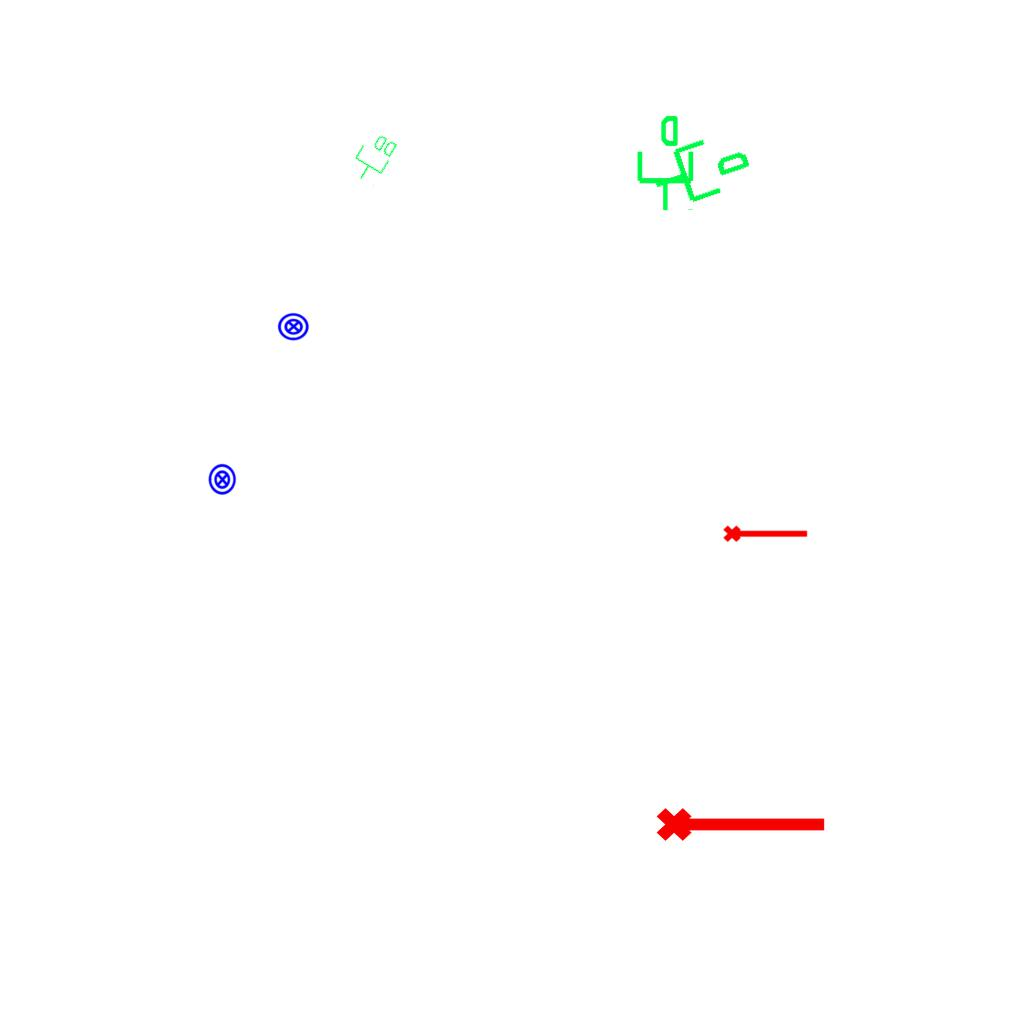ASR_Ansaugoeffnung: (654, 799, 830, 845), (722, 521, 810, 544)
Datenanschluss_einfach: (641, 119, 760, 217), (629, 113, 698, 213)
Datenanschluss_zweifach: (345, 127, 402, 189)
Taster_beleuchtet: (277, 310, 310, 343), (206, 463, 239, 496)
